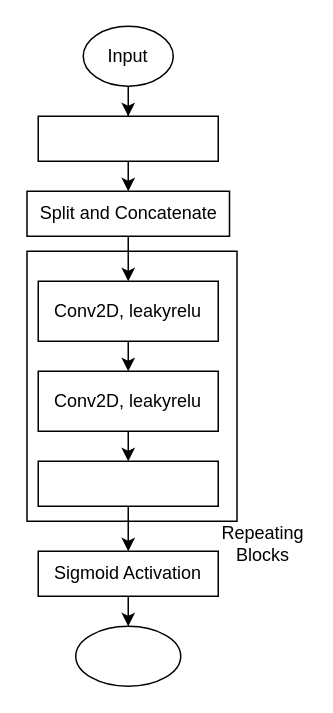
Some shapes in this 333 by 713 pixel diagram are drawn without their labels. The centre of each missing label's shape, as x and y in pixels:
Batch Normalization: the point at 127,483
Output: the point at 127,655
Wavelet Layer: the point at 127,138
